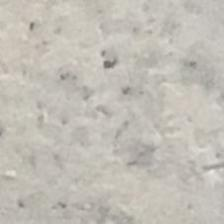Non_Crack: (15, 9, 209, 216)
